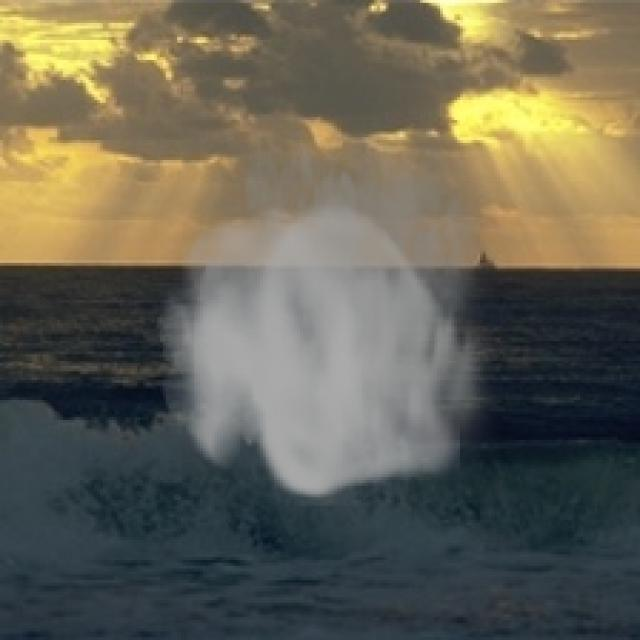smoke: (157, 97, 506, 506)
